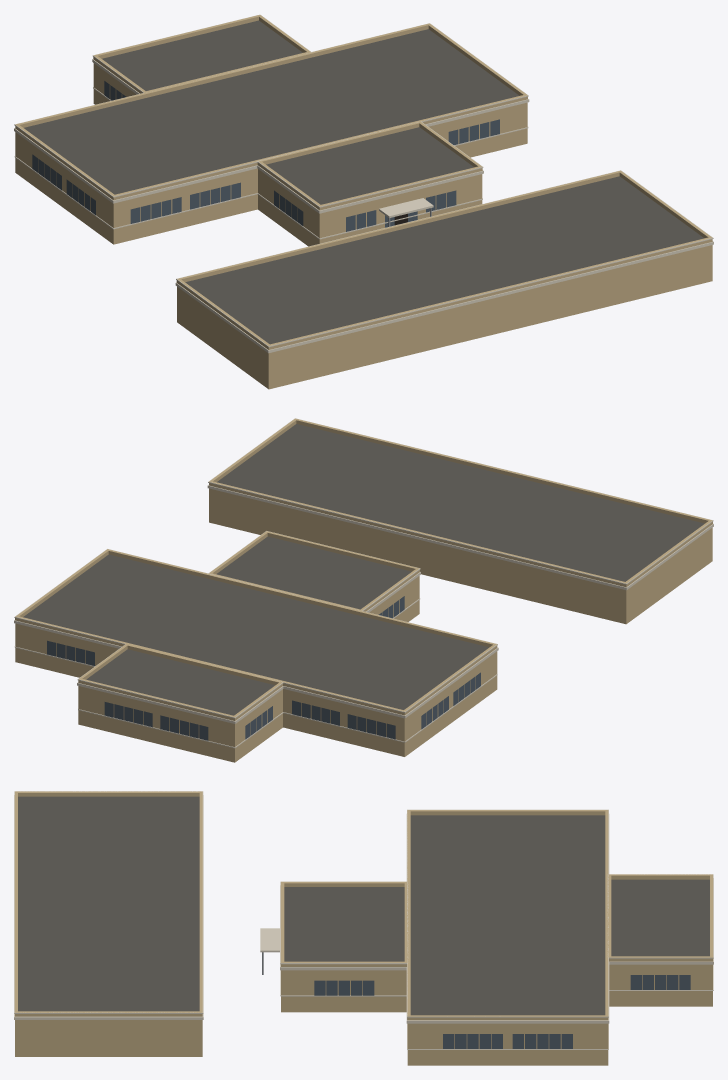
The model's file is immaculate-conception-school-nlr.glb.
3 renders of one model, top to bottom at view 1: azimuth 30°, elevation 25°; view 2: azimuth 150°, elevation 25°; view 3: azimuth 270°, elevation 25°, orthographic. The views are drawn at different scales.
Parts seen in each view (by area): view 1: immaculate_conception_school_nlr; view 2: immaculate_conception_school_nlr; view 3: immaculate_conception_school_nlr.
Part boxes in pixels (box(x1,y1,x2,y2)): immaculate_conception_school_nlr: box(14, 14, 713, 389); immaculate_conception_school_nlr: box(14, 418, 713, 762); immaculate_conception_school_nlr: box(14, 791, 713, 1065).
Bounding box in the file's own units: 61.24 × 6.23 × 80.24.
